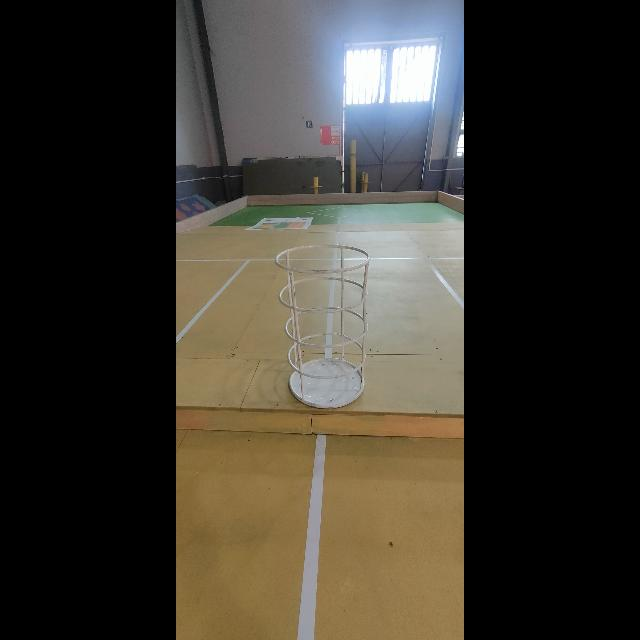S: (273, 242, 371, 408)
